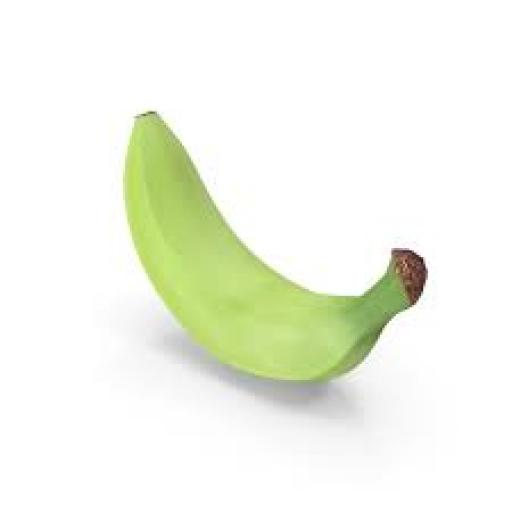banana-unripe: (56, 54, 487, 408)
